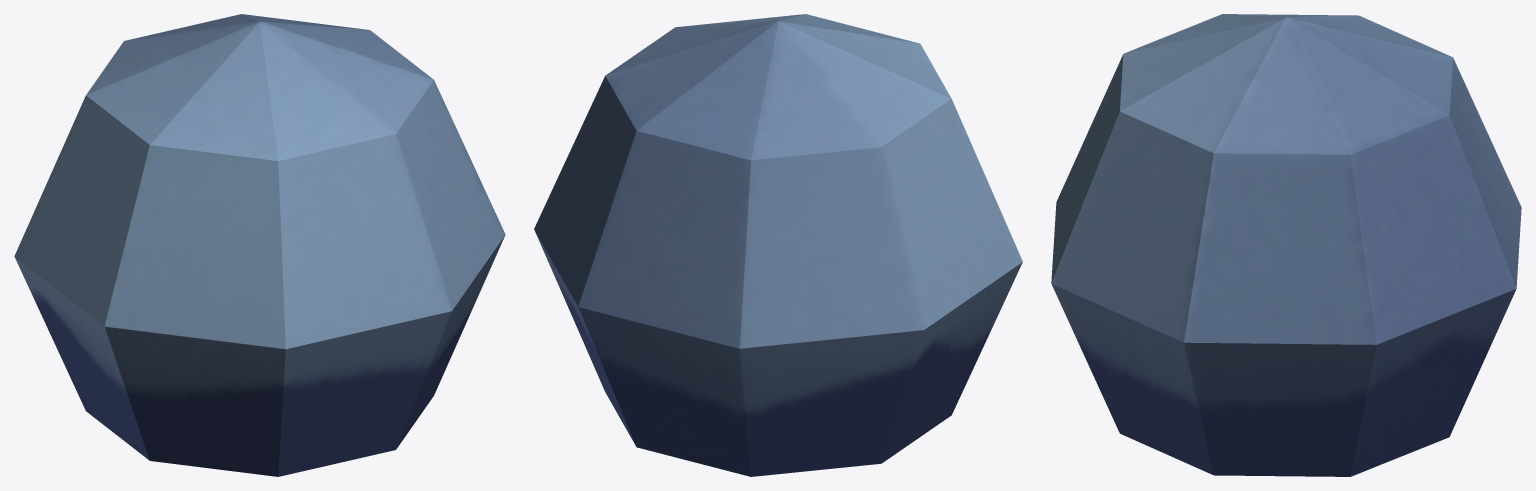
File: Clam_02.FBX
The picture shows the model from 3 angles, left to right: view 1: azimuth 30°, elevation 25°; view 2: azimuth 150°, elevation 25°; view 3: azimuth 270°, elevation 25°; orthographic projection.
Visible parts, largest first — view 1: Clam_02; view 2: Clam_02; view 3: Clam_02.
Part boxes in pixels (bbox=[...]): Clam_02: bbox=[14, 14, 505, 476]; Clam_02: bbox=[534, 14, 1022, 476]; Clam_02: bbox=[1051, 14, 1521, 476].
Size of the model in its own units: 1.57 by 1.68 by 1.57.
